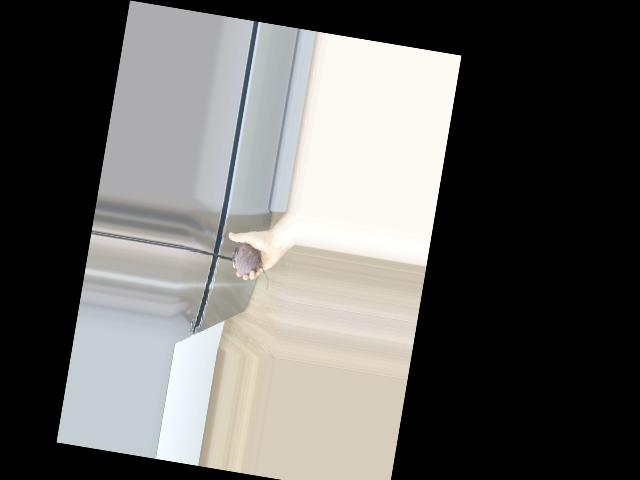beet: (227, 241, 274, 291)
